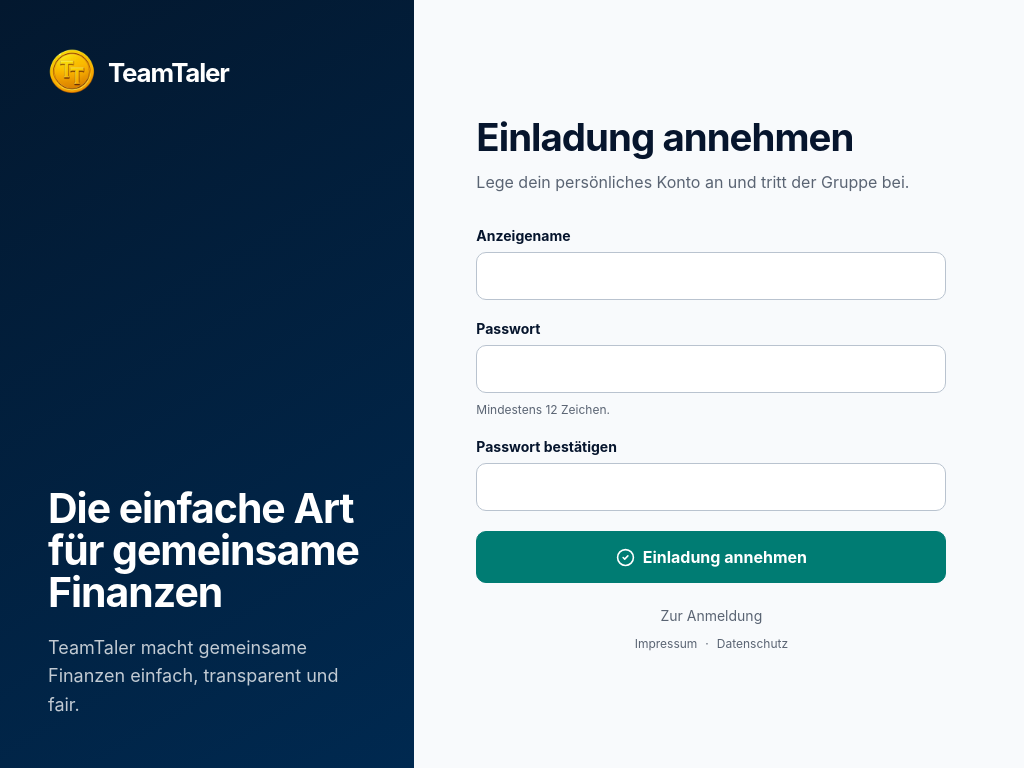
Test case: authentication form policies › requires 12 characters for a new account and uses a neutral acceptance action
Type "Alex" into the field labelled "Anzeigename" at (711, 276), box [476, 252, 946, 300]
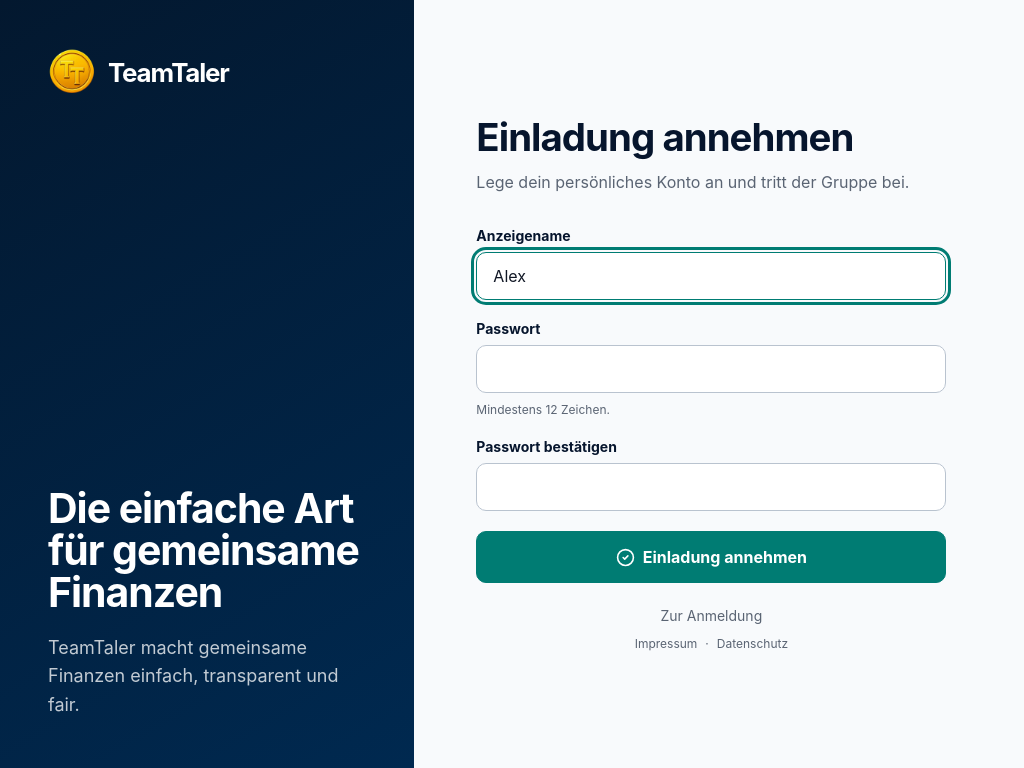
Type "short" into the password field labelled "Passwort" at (711, 369), box [476, 345, 946, 393]
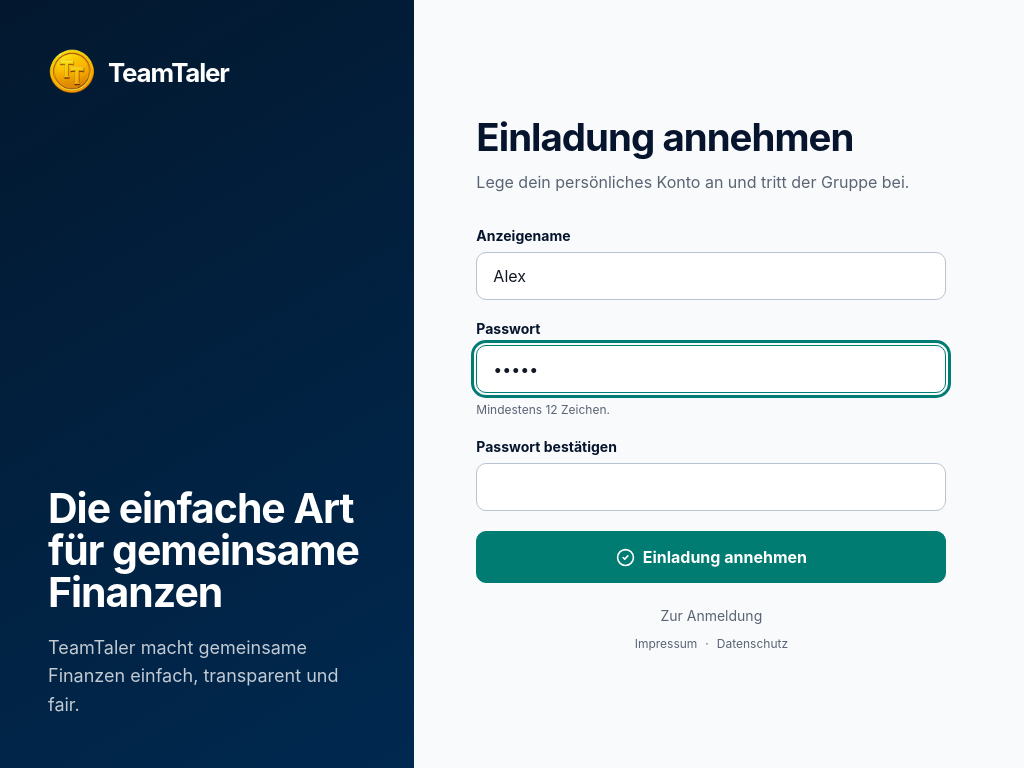
Type "short" into the password field labelled "Passwort bestätigen" at (711, 487), box [476, 463, 946, 511]
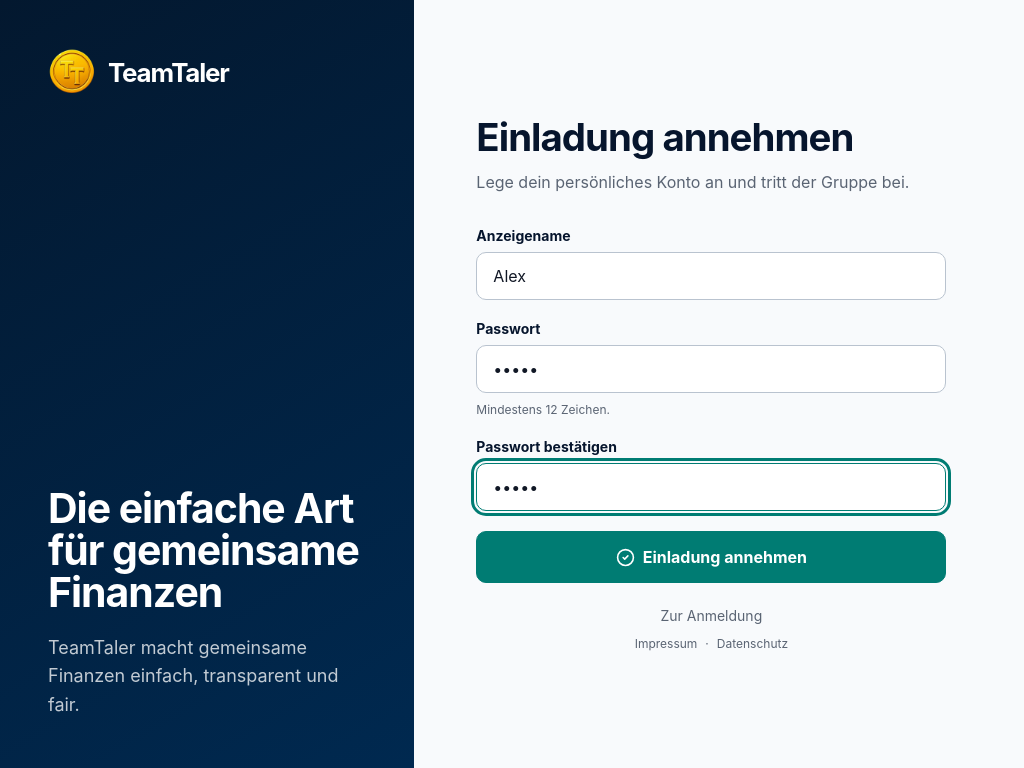
Click the button "Einladung annehmen" at (711, 557), box [476, 531, 946, 583]
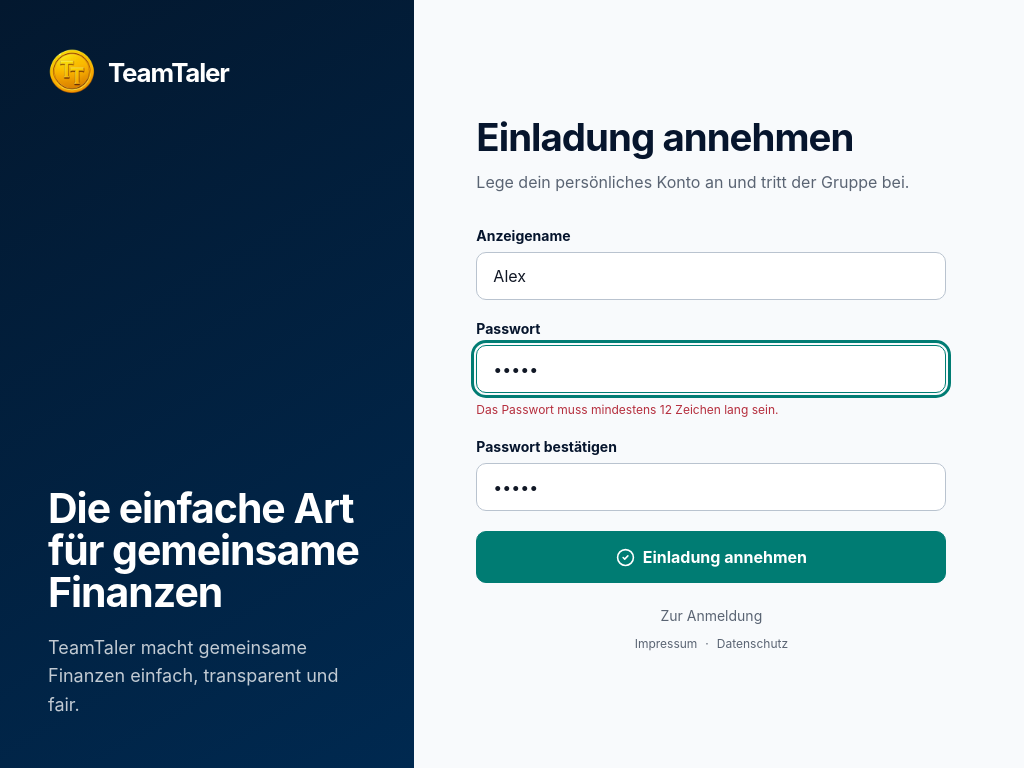
Result: the text "Das Passwort muss mindestens 12 Zeichen lang sein." is shown at [476, 402, 778, 417]
